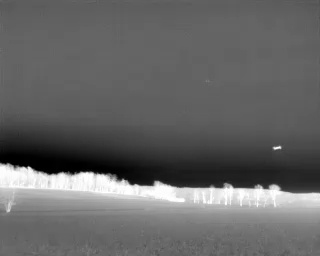DRONE: (269, 140, 286, 156)
